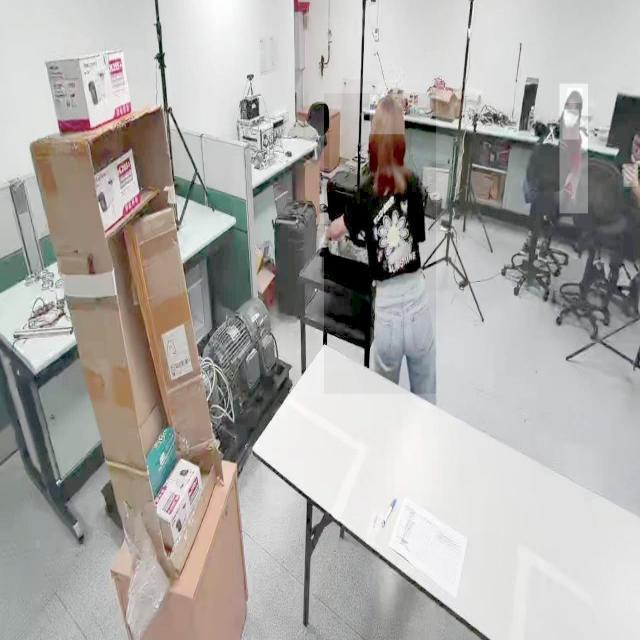gloves: (316, 224, 332, 258)
